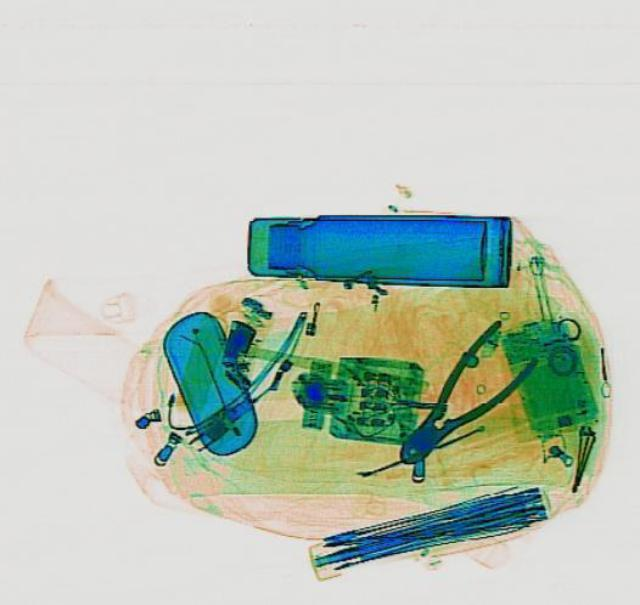Pliers: (371, 314, 547, 482)
